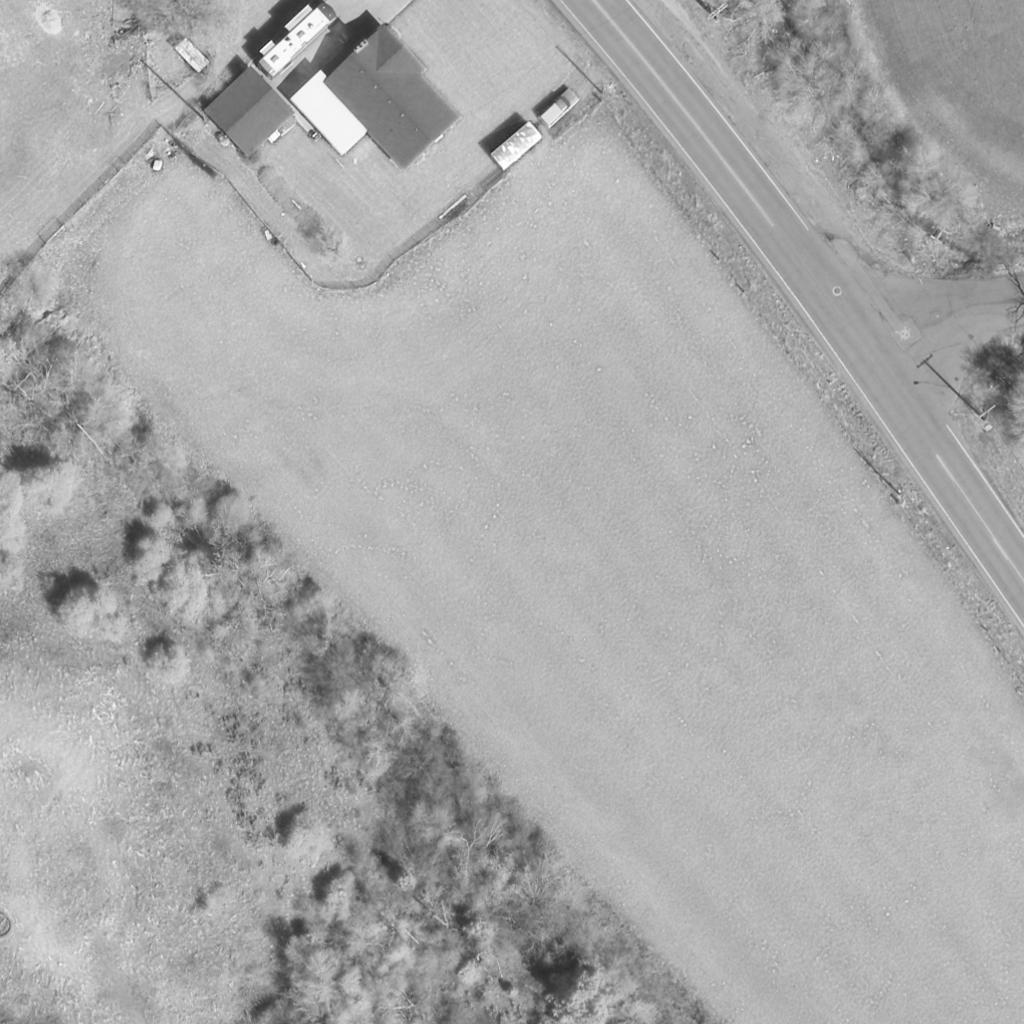vehicle: (259, 6, 331, 80), (489, 122, 541, 176), (539, 87, 581, 127)
